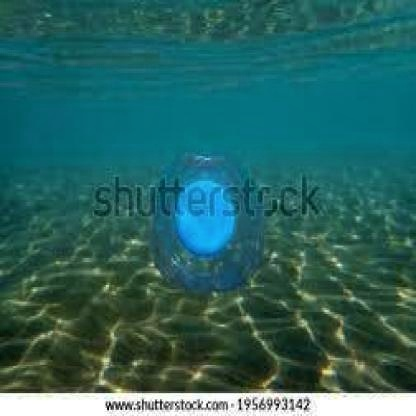pbottle: (142, 140, 271, 294)
